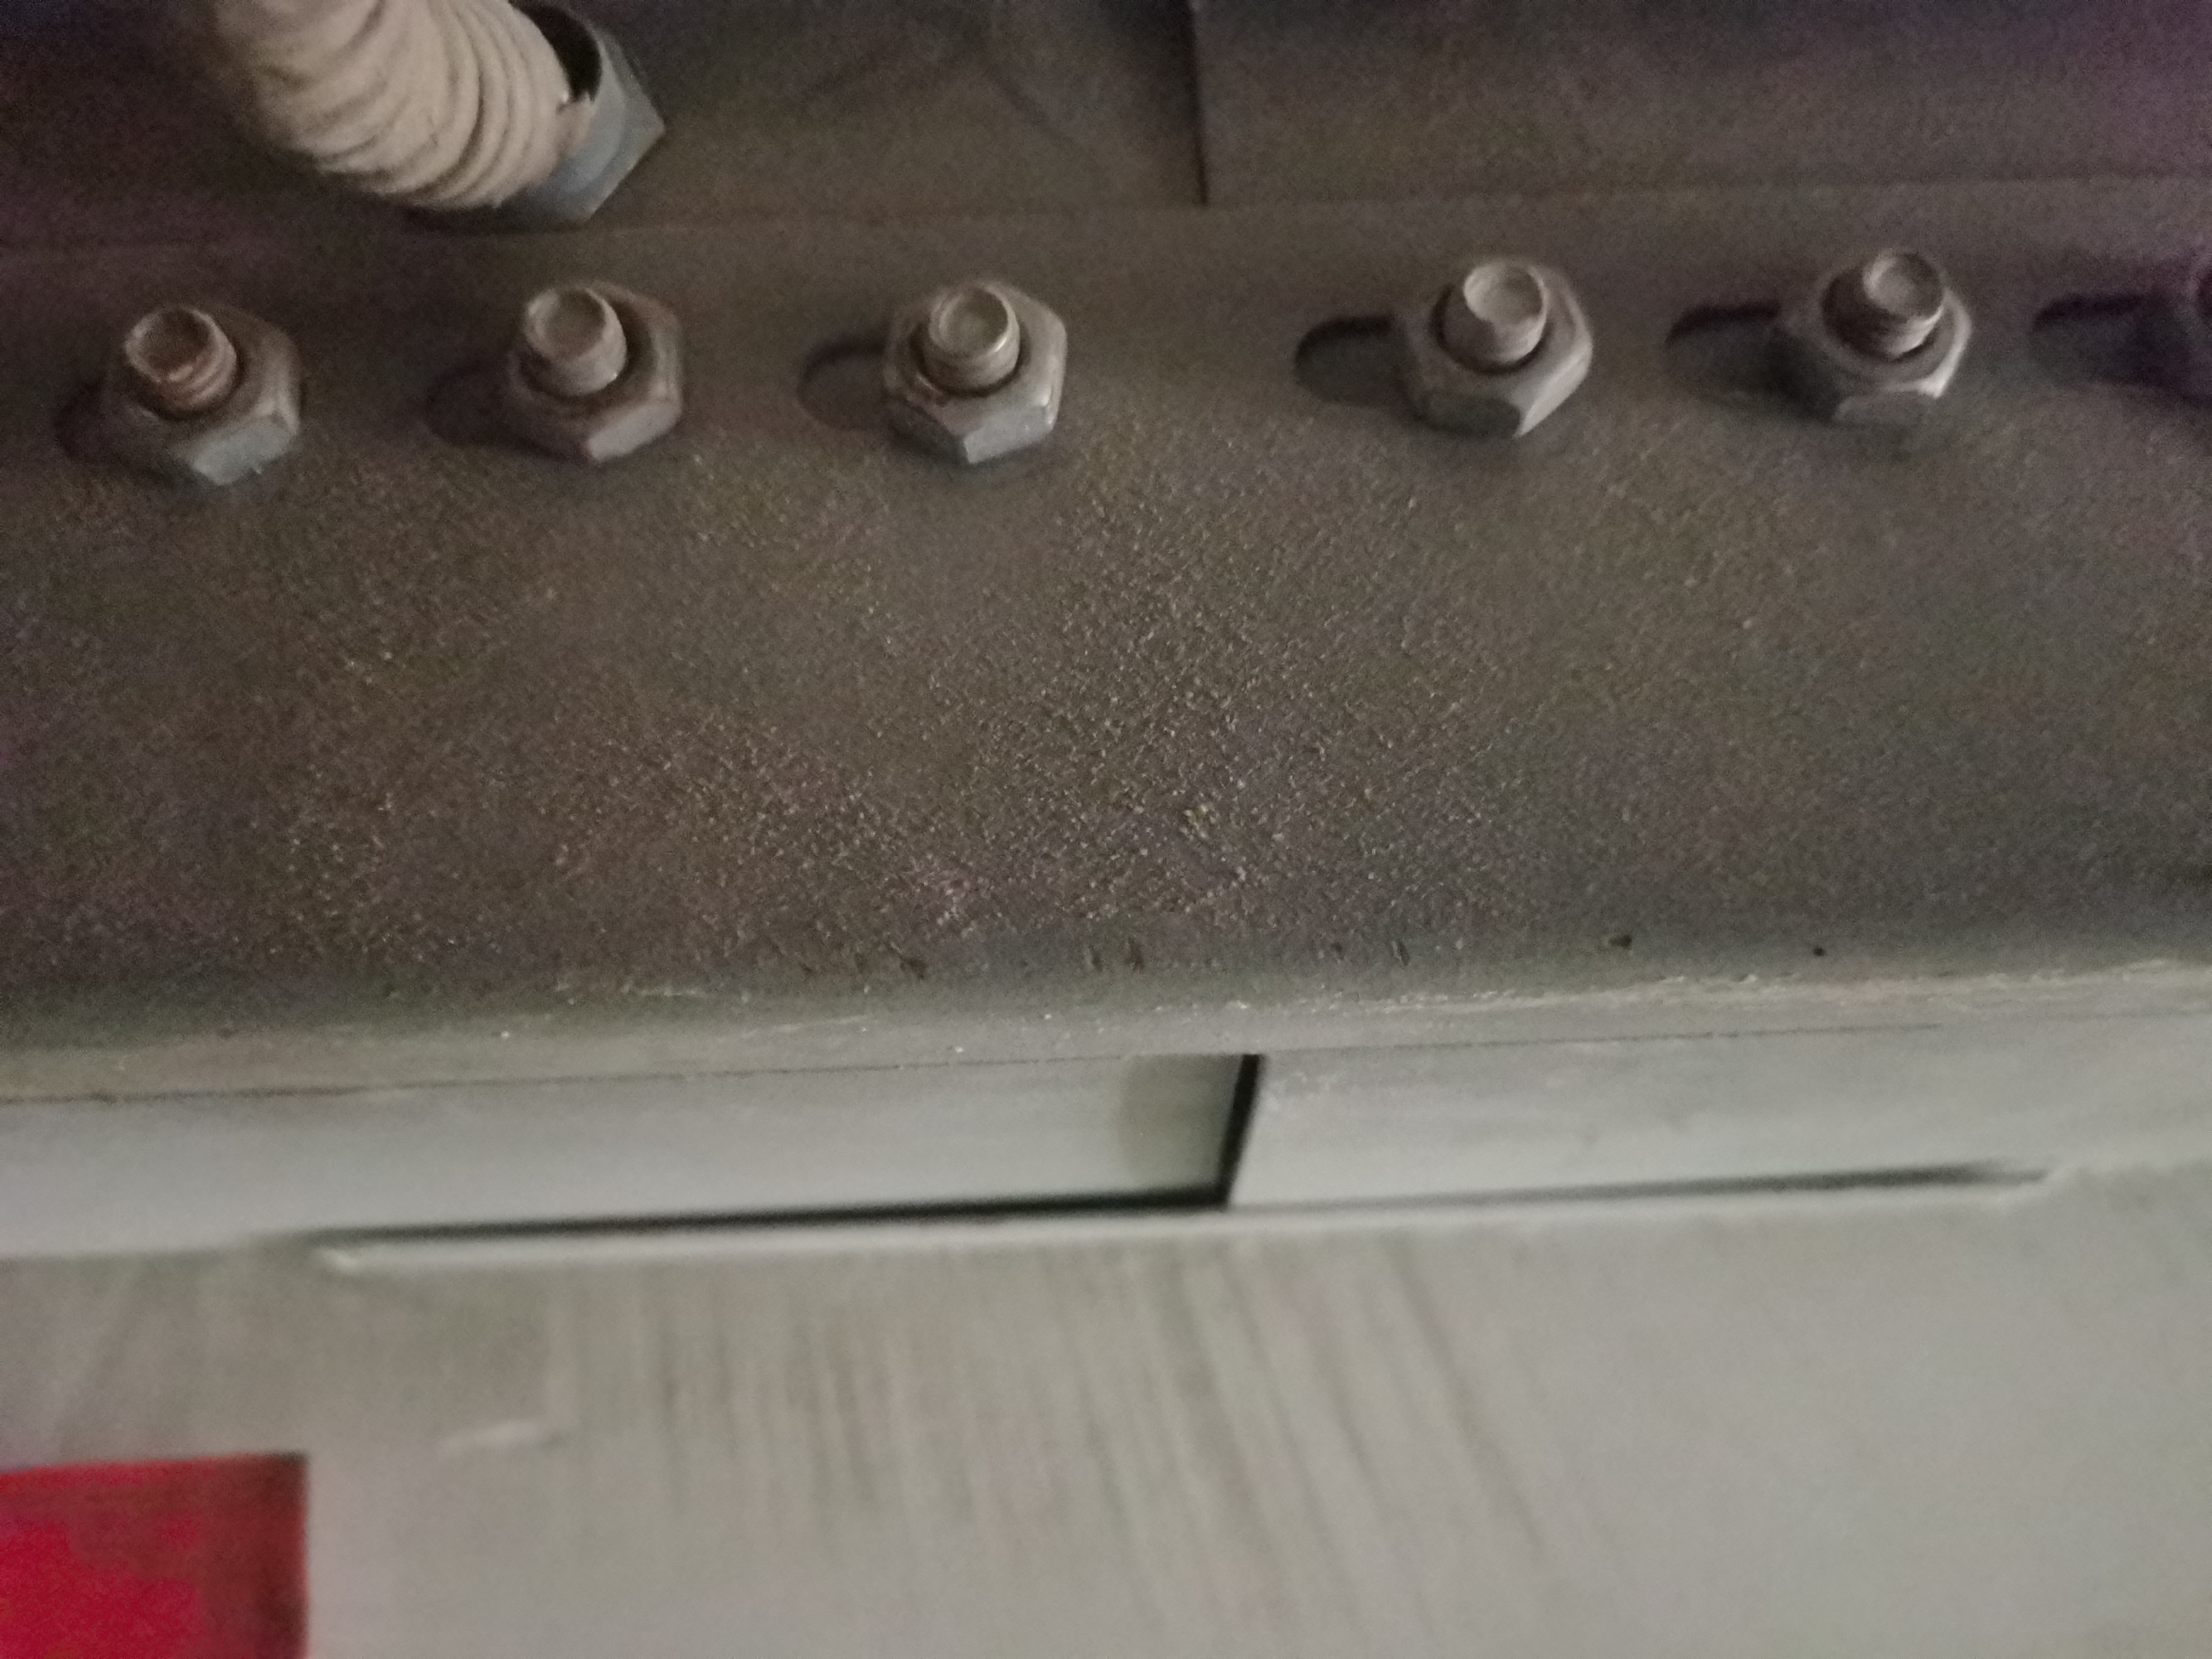bolt_b: (91, 291, 314, 498), (474, 265, 695, 471), (1388, 244, 1599, 444), (1766, 240, 1984, 434), (873, 270, 1078, 474)
